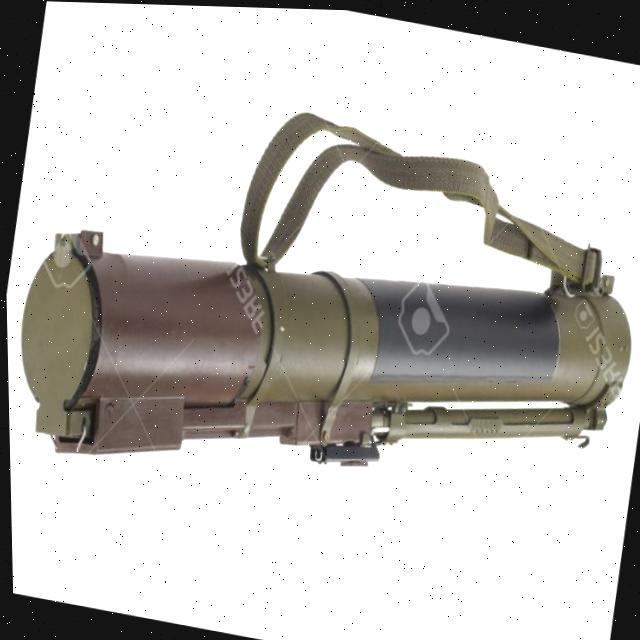rocket: (1, 45, 640, 597)
